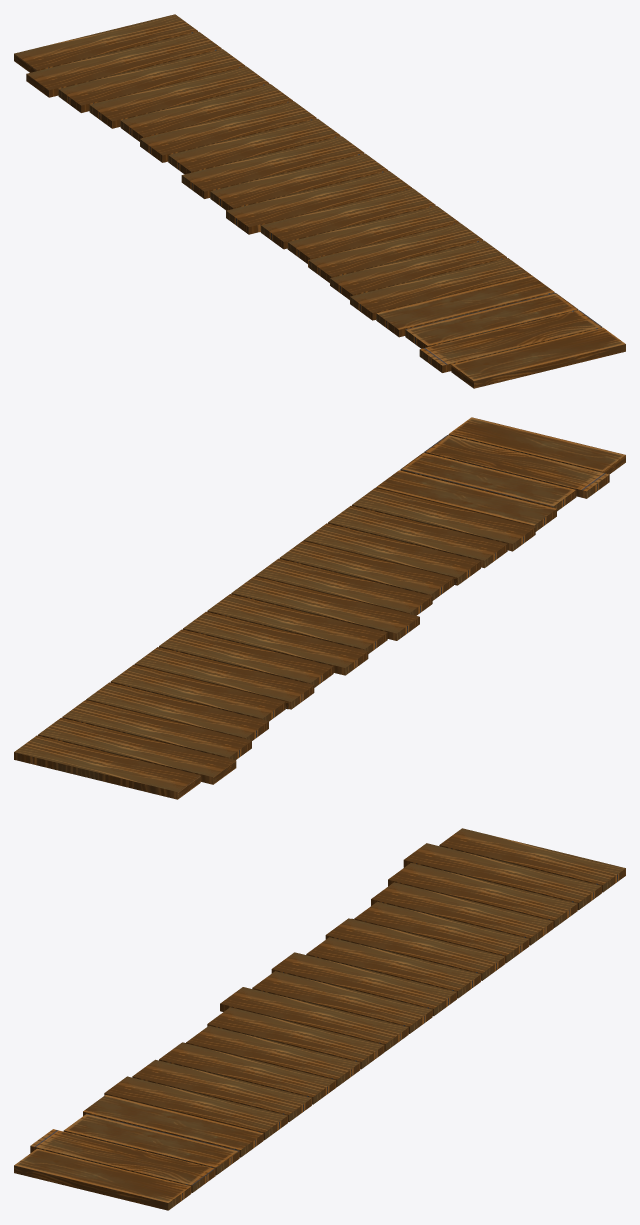
The picture shows the model from 3 angles, top to bottom: view 1: azimuth 30°, elevation 25°; view 2: azimuth 150°, elevation 25°; view 3: azimuth 330°, elevation 25°; orthographic projection.
Visible parts, largest first — view 1: Cube.125; view 2: Cube.125; view 3: Cube.125.
Boxes of the visible parts, x1,y1,x2,y2 form: Cube.125: (14,14,625,388); Cube.125: (14,417,625,799); Cube.125: (14,828,625,1210).
Bounding box in the file's own units: 287 × 11.9 × 1297.
1 material, 1 textured.
